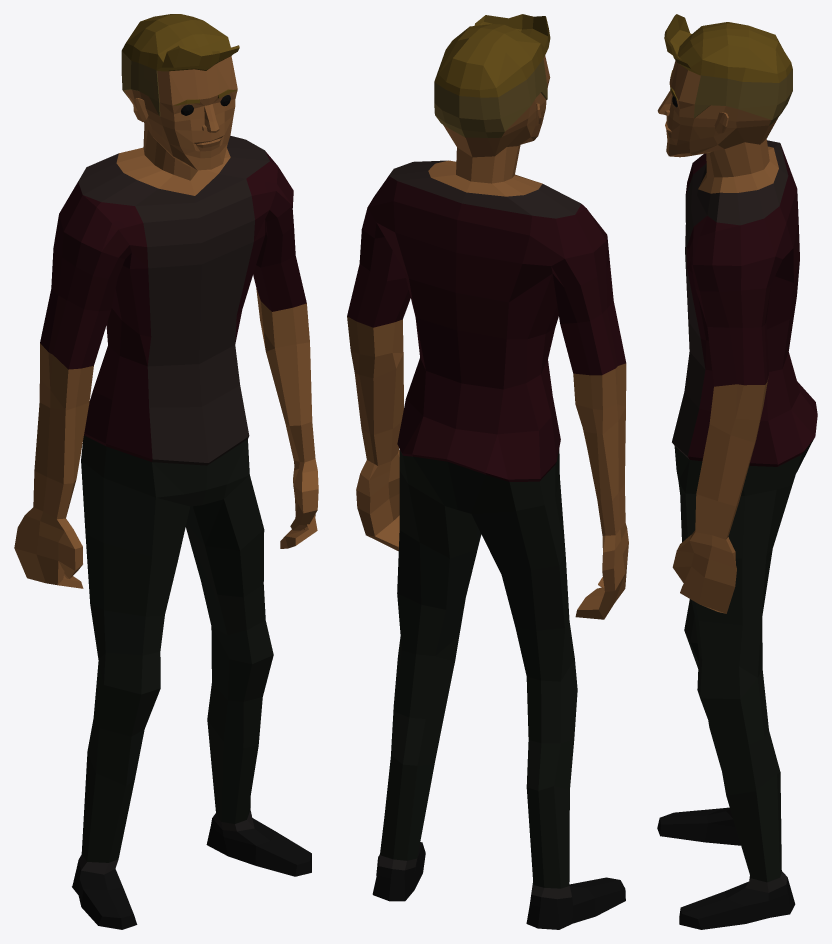
3 views of the same model, side by side, from view 1: azimuth 30°, elevation 25°; view 2: azimuth 150°, elevation 25°; view 3: azimuth 270°, elevation 25° (orthographic). The views are drawn at different scales.
Parts seen in each view (by area): view 1: BaseHuman_static; view 2: BaseHuman_static; view 3: BaseHuman_static.
Boxes of the visible parts, x1=… form: BaseHuman_static: x1=14, y1=14, x2=318, y2=929; BaseHuman_static: x1=347, y1=14, x2=628, y2=929; BaseHuman_static: x1=657, y1=14, x2=817, y2=929.
Bounding box in the file's own units: 1.61 × 4.83 × 0.8284.
